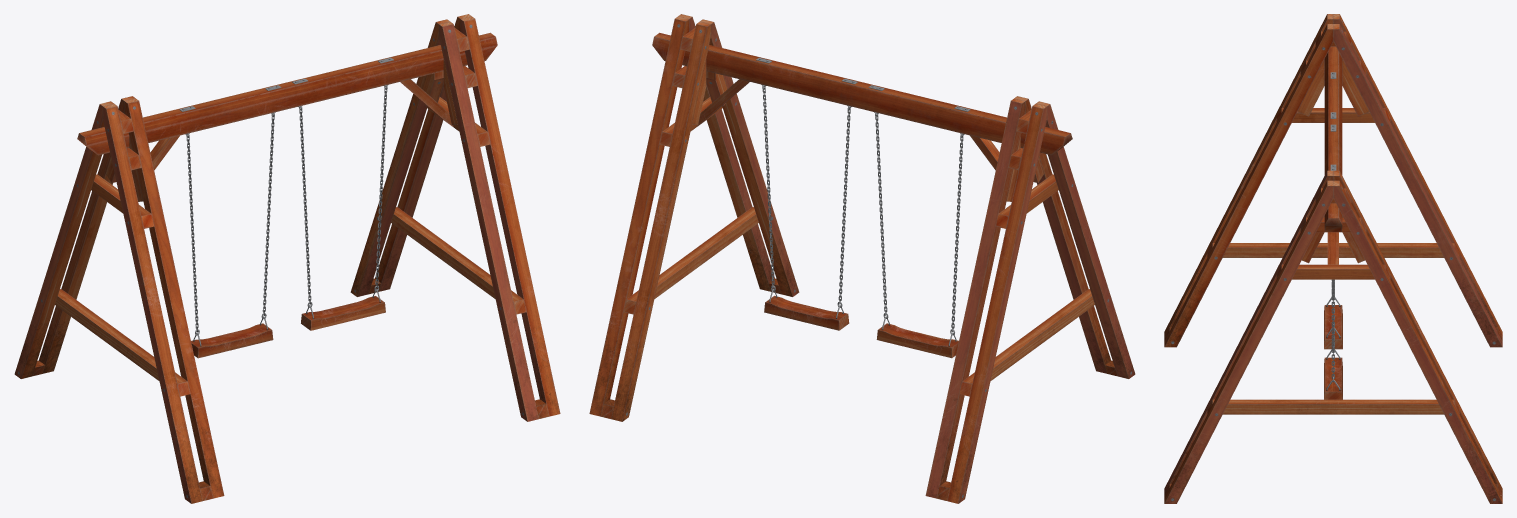
The picture shows the model from 3 angles, left to right: view 1: azimuth 30°, elevation 25°; view 2: azimuth 150°, elevation 25°; view 3: azimuth 270°, elevation 25°; orthographic projection. The views are drawn at different scales.
Visible parts, largest first — view 1: Geode; view 2: Geode; view 3: Geode.
Boxes of the visible parts, x1,y1,x2,y2 form: Geode: (14,14,560,503); Geode: (589,14,1135,503); Geode: (1164,14,1502,503).
Bounding box in the file's own units: 2 × 1.55 × 1.49.
1 material, 1 textured.
